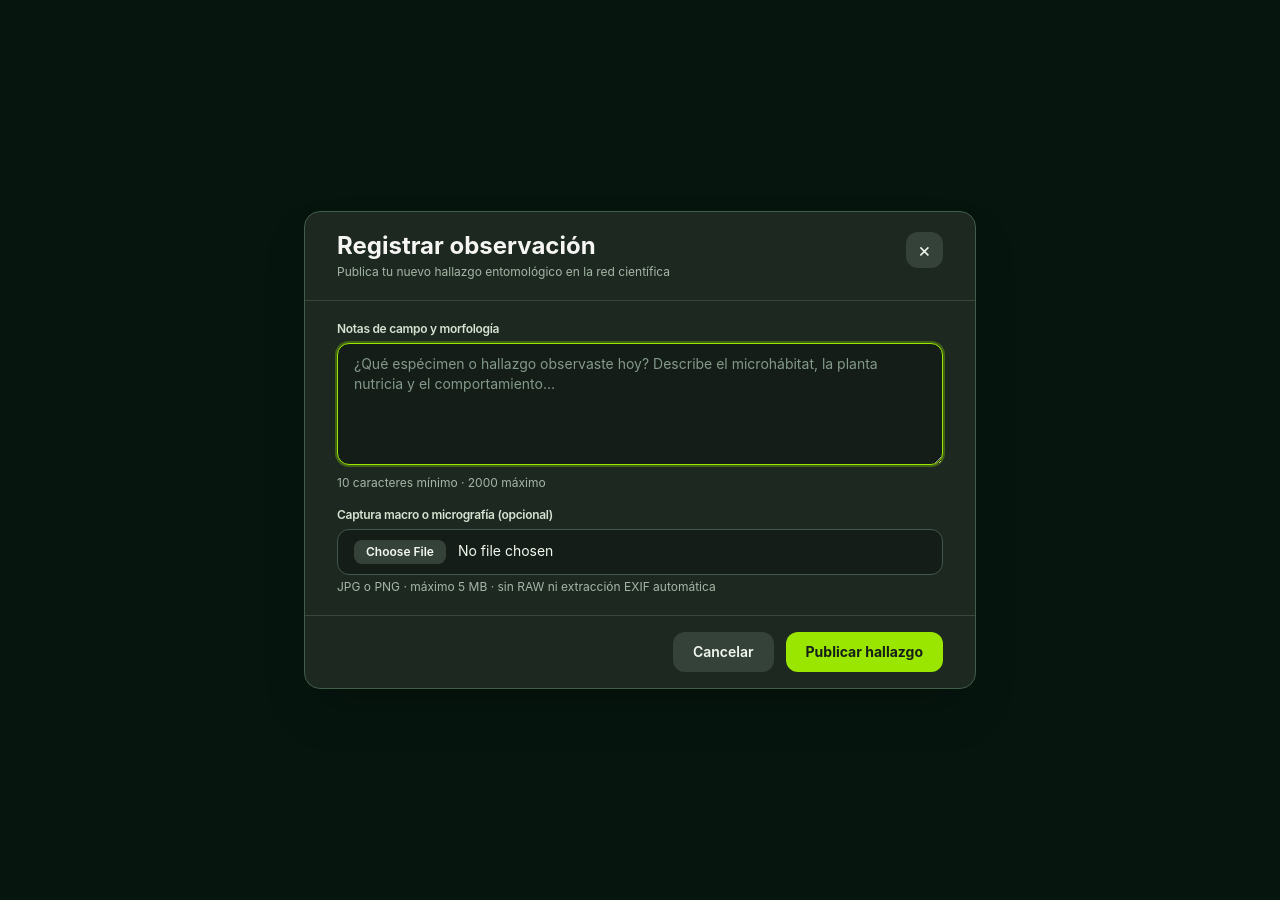
Scenario: CrearPublicacionModal › valida texto vacío y demasiado corto con mensaje vinculado al campo
Click the button "Publicar hallazgo".
click(864, 652)  # box [786, 632, 943, 672]
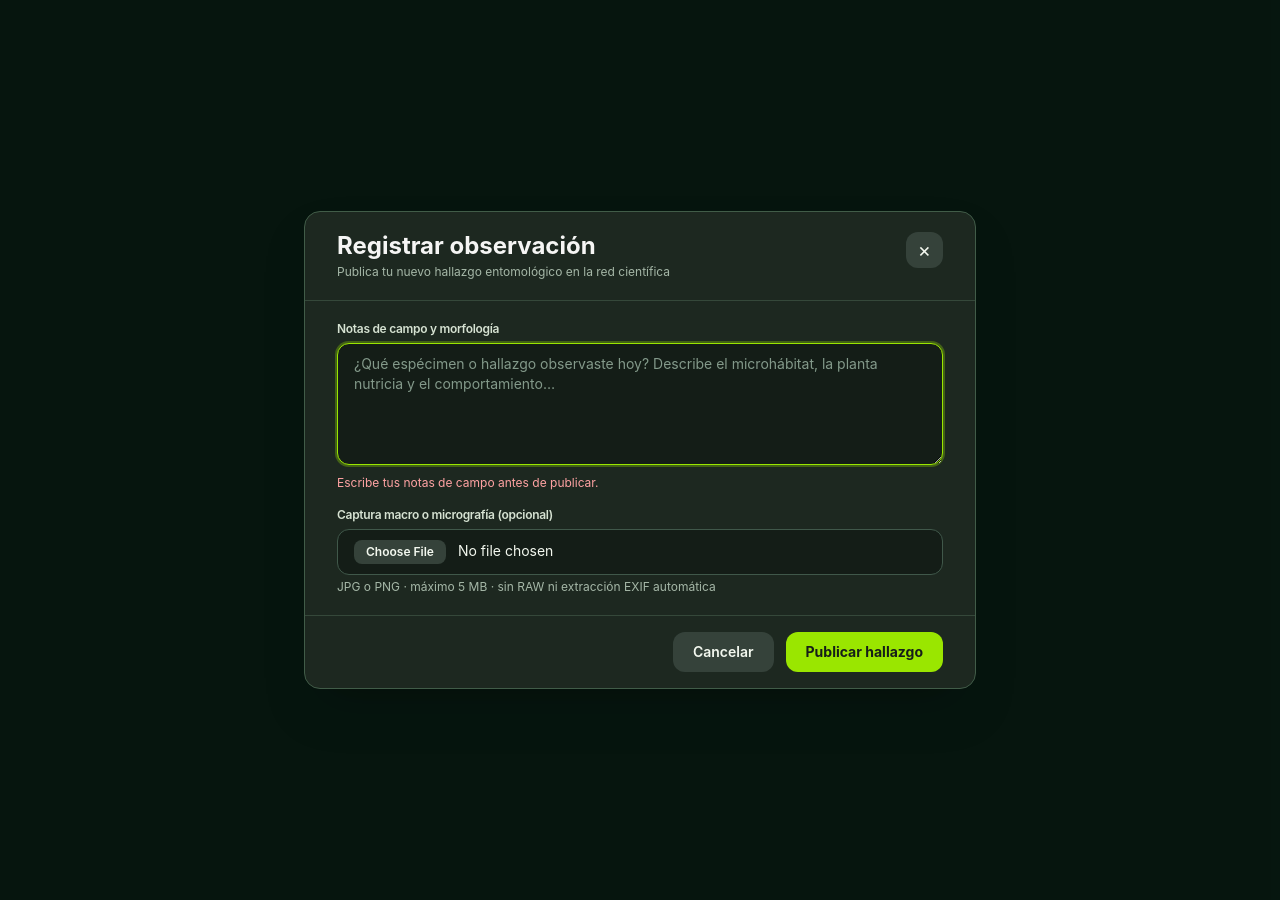
Check: the text "Escribe tus notas de campo antes de publicar." is shown, box [337, 475, 599, 490]
Replace the text in the text box labelled "Notas de campo y morfología" with "Muy corto" at (640, 404), box [337, 343, 943, 465]
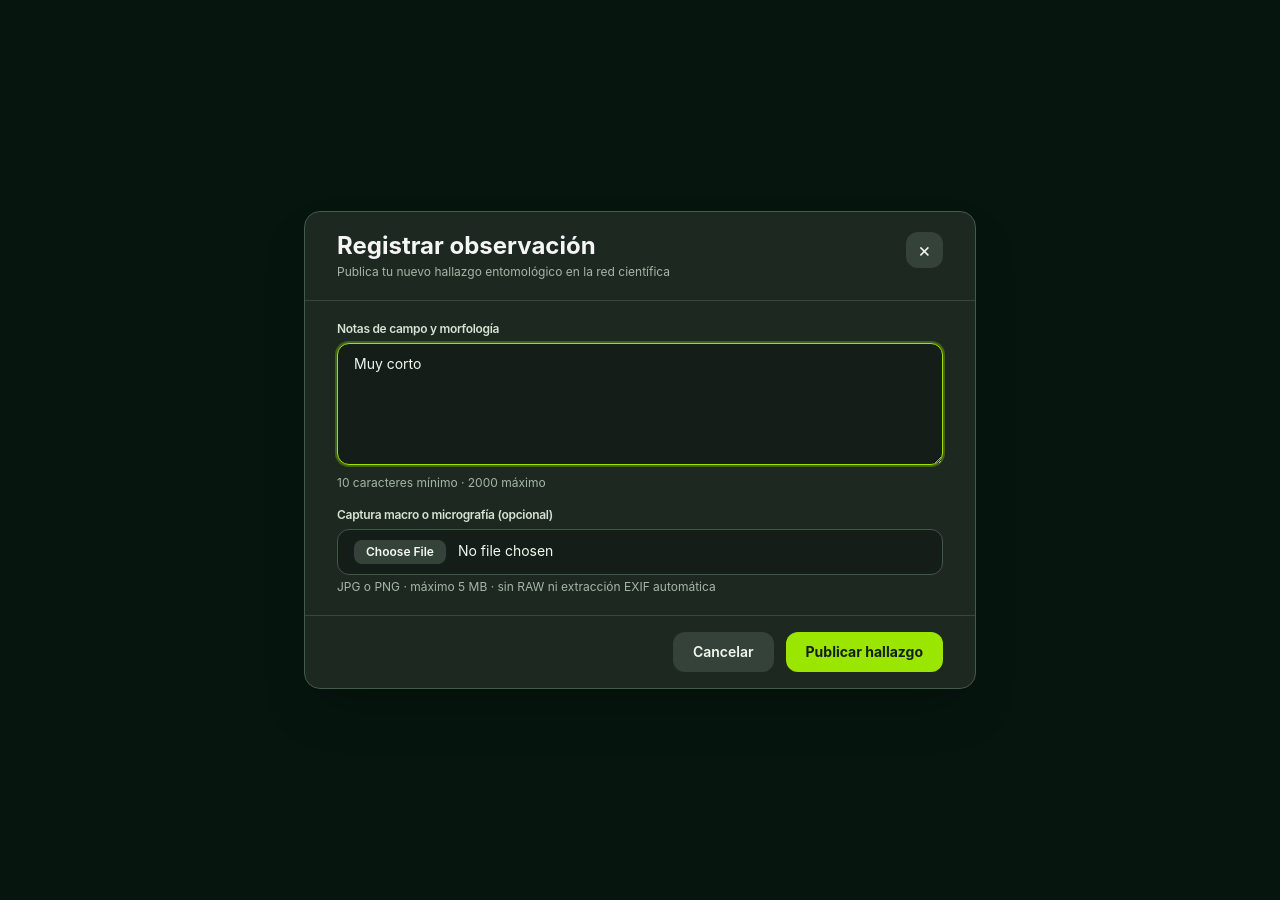
Click the button "Publicar hallazgo".
click(864, 652)  # box [786, 632, 943, 672]
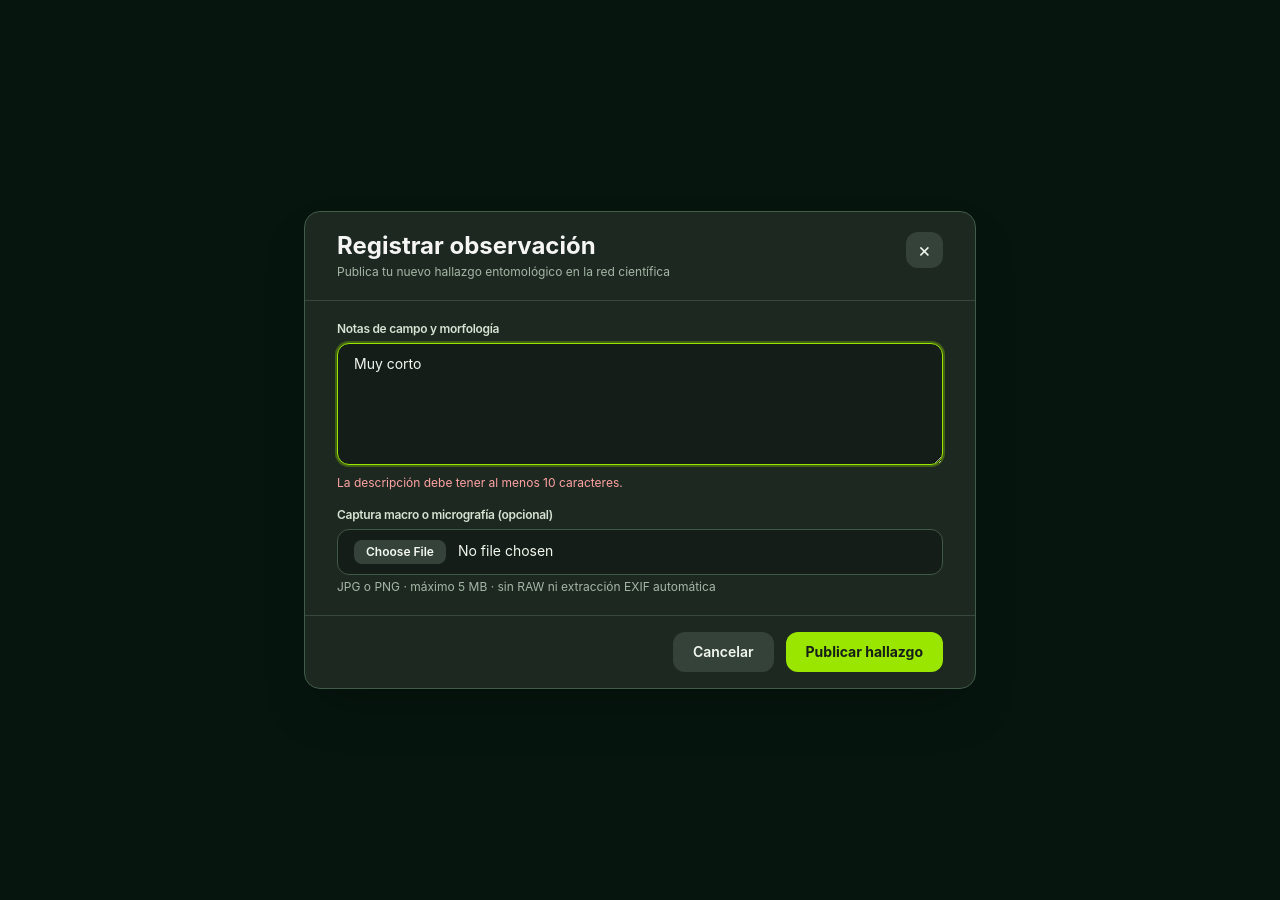
Check: the text "La descripción debe tener al menos 10 caracteres." is shown, box [337, 475, 623, 490]
